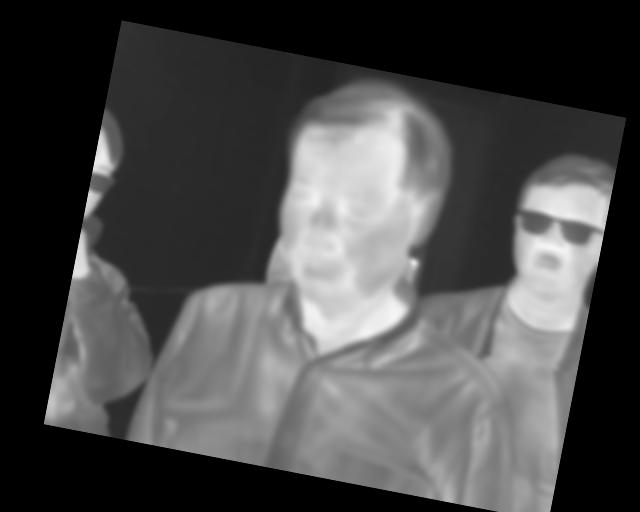face: (255, 64, 465, 332), (496, 140, 618, 306)
